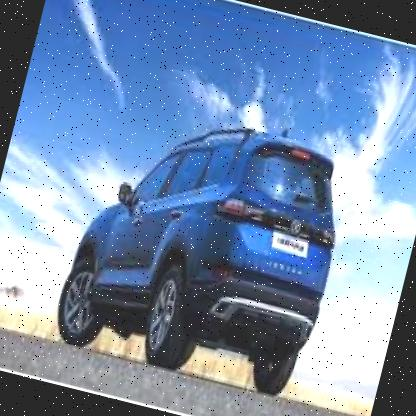car: (41, 84, 373, 412)
